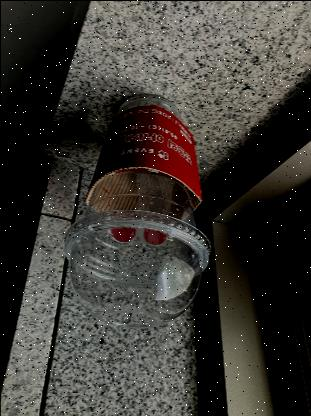Others: (61, 76, 212, 328), (61, 209, 209, 327)
